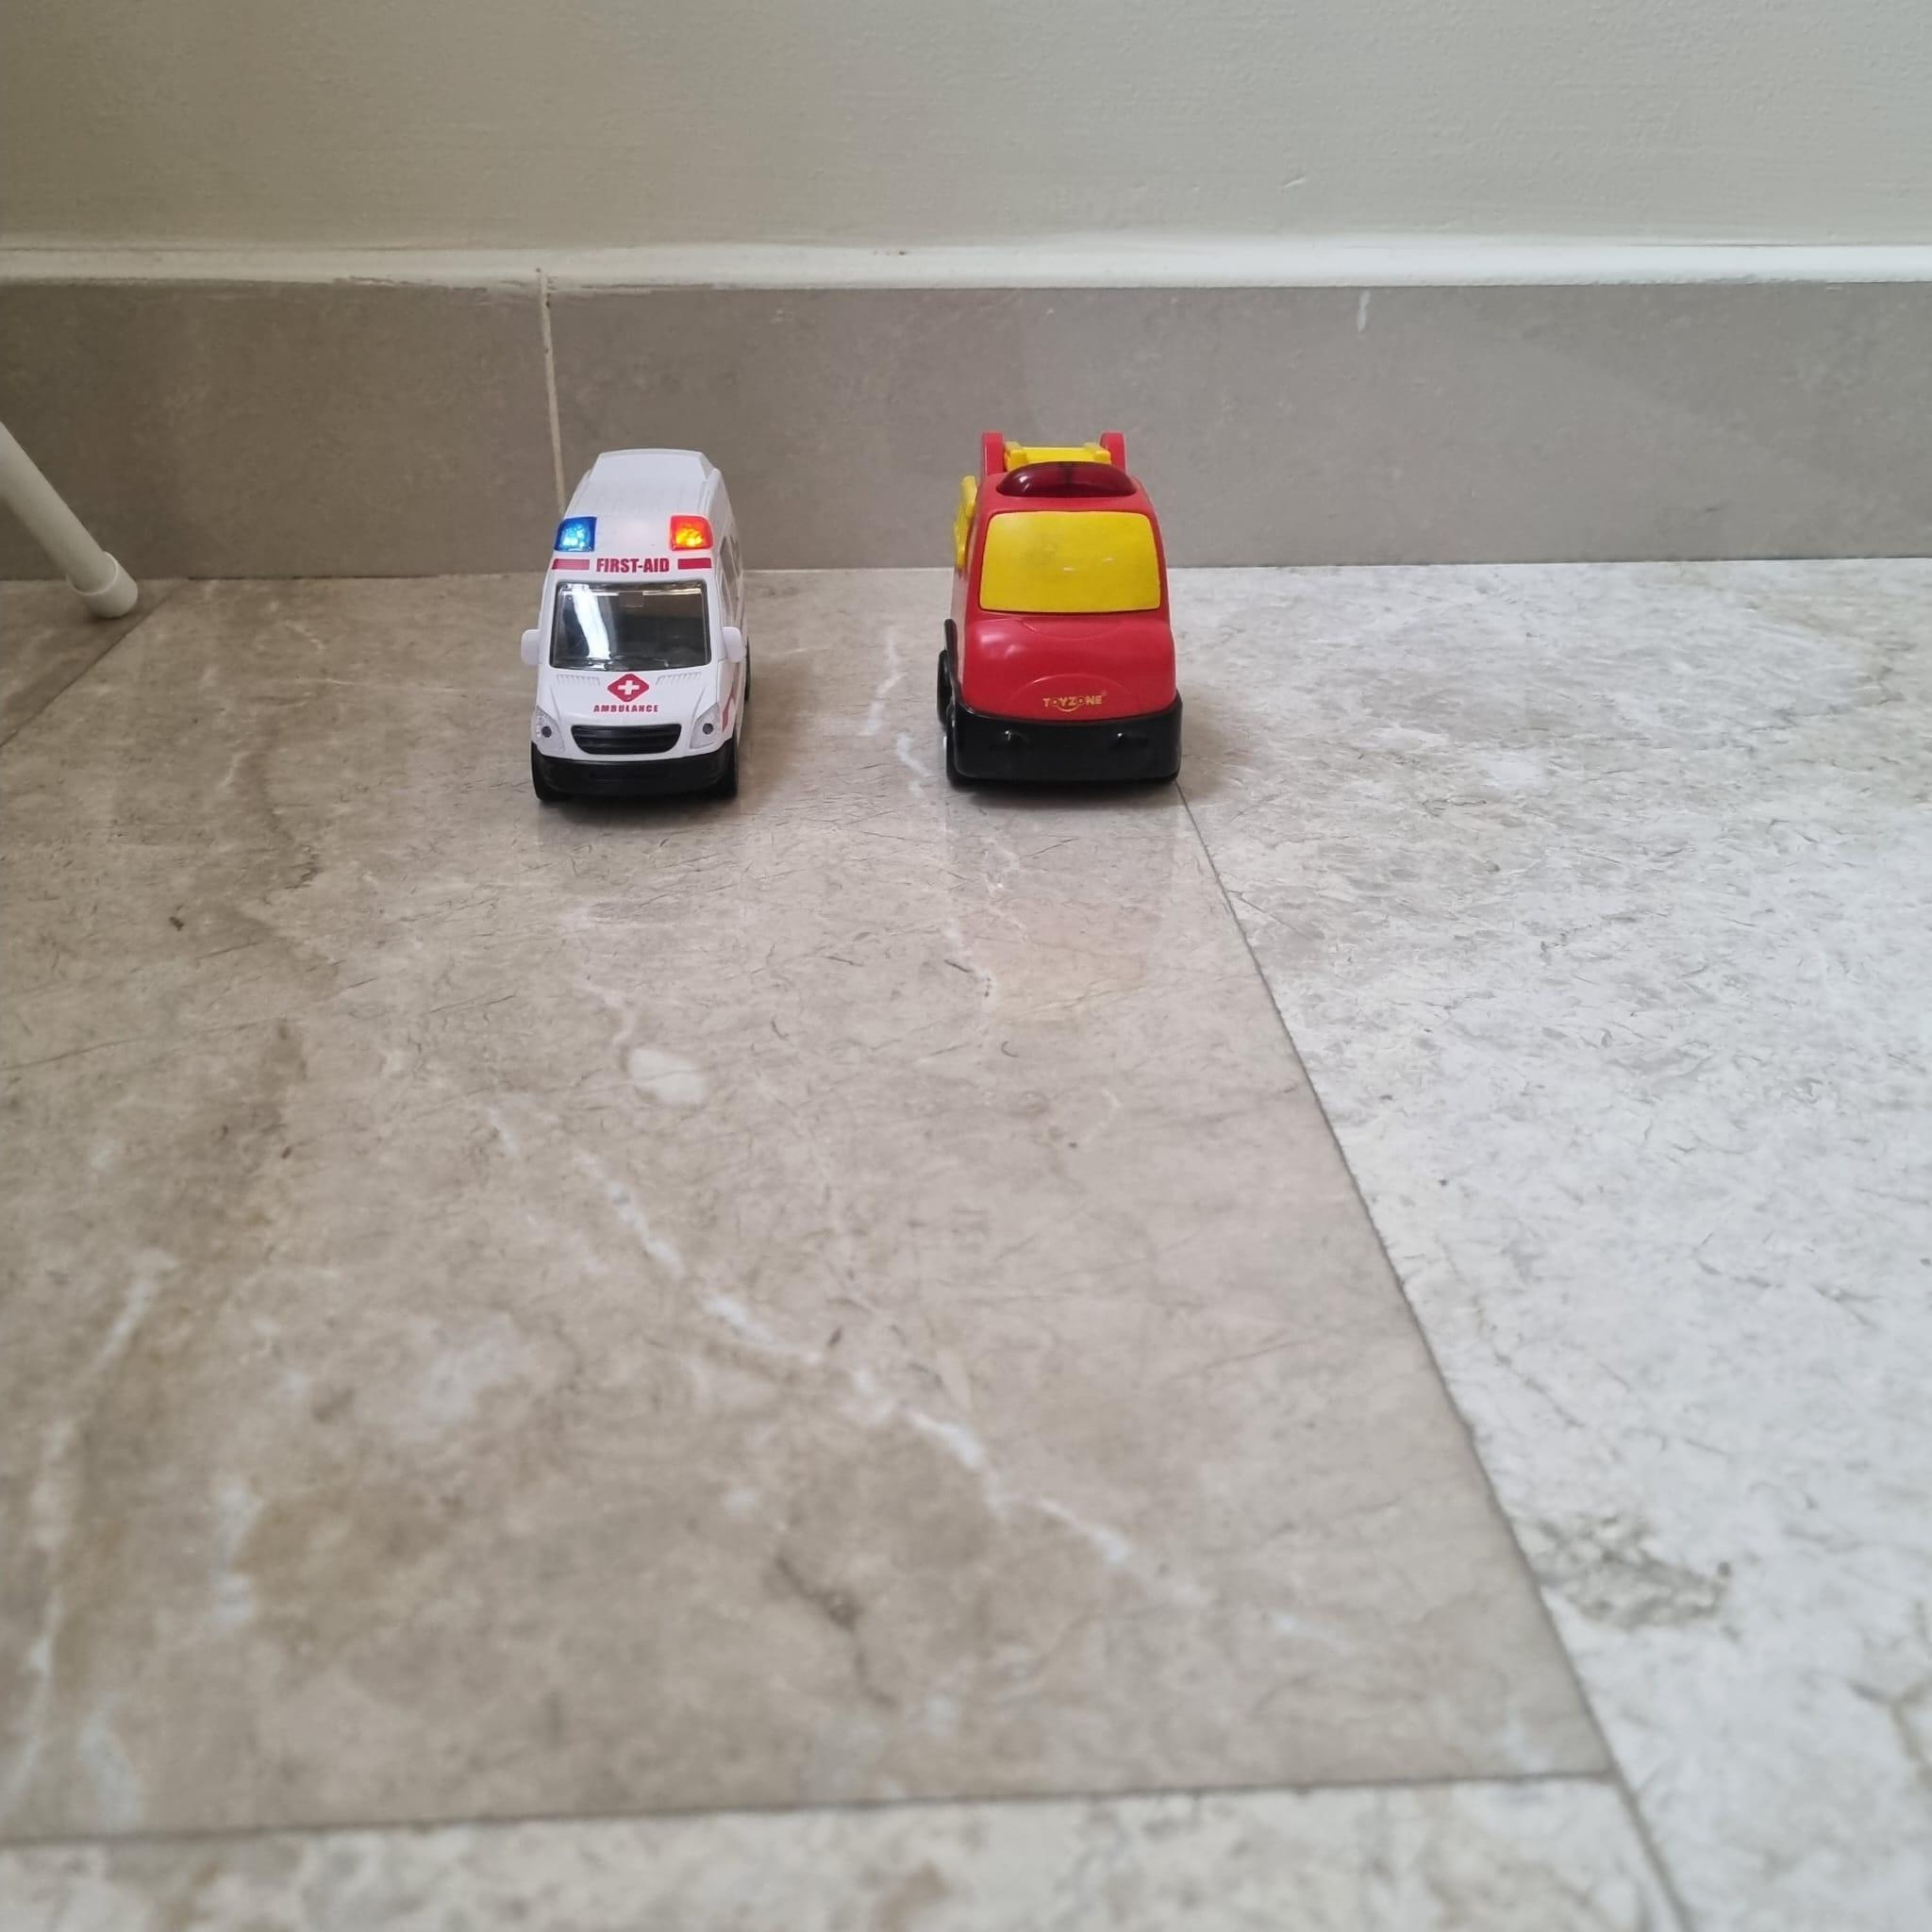ambulance_on: (520, 448, 752, 809)
firetruck_off: (936, 432, 1182, 796)
